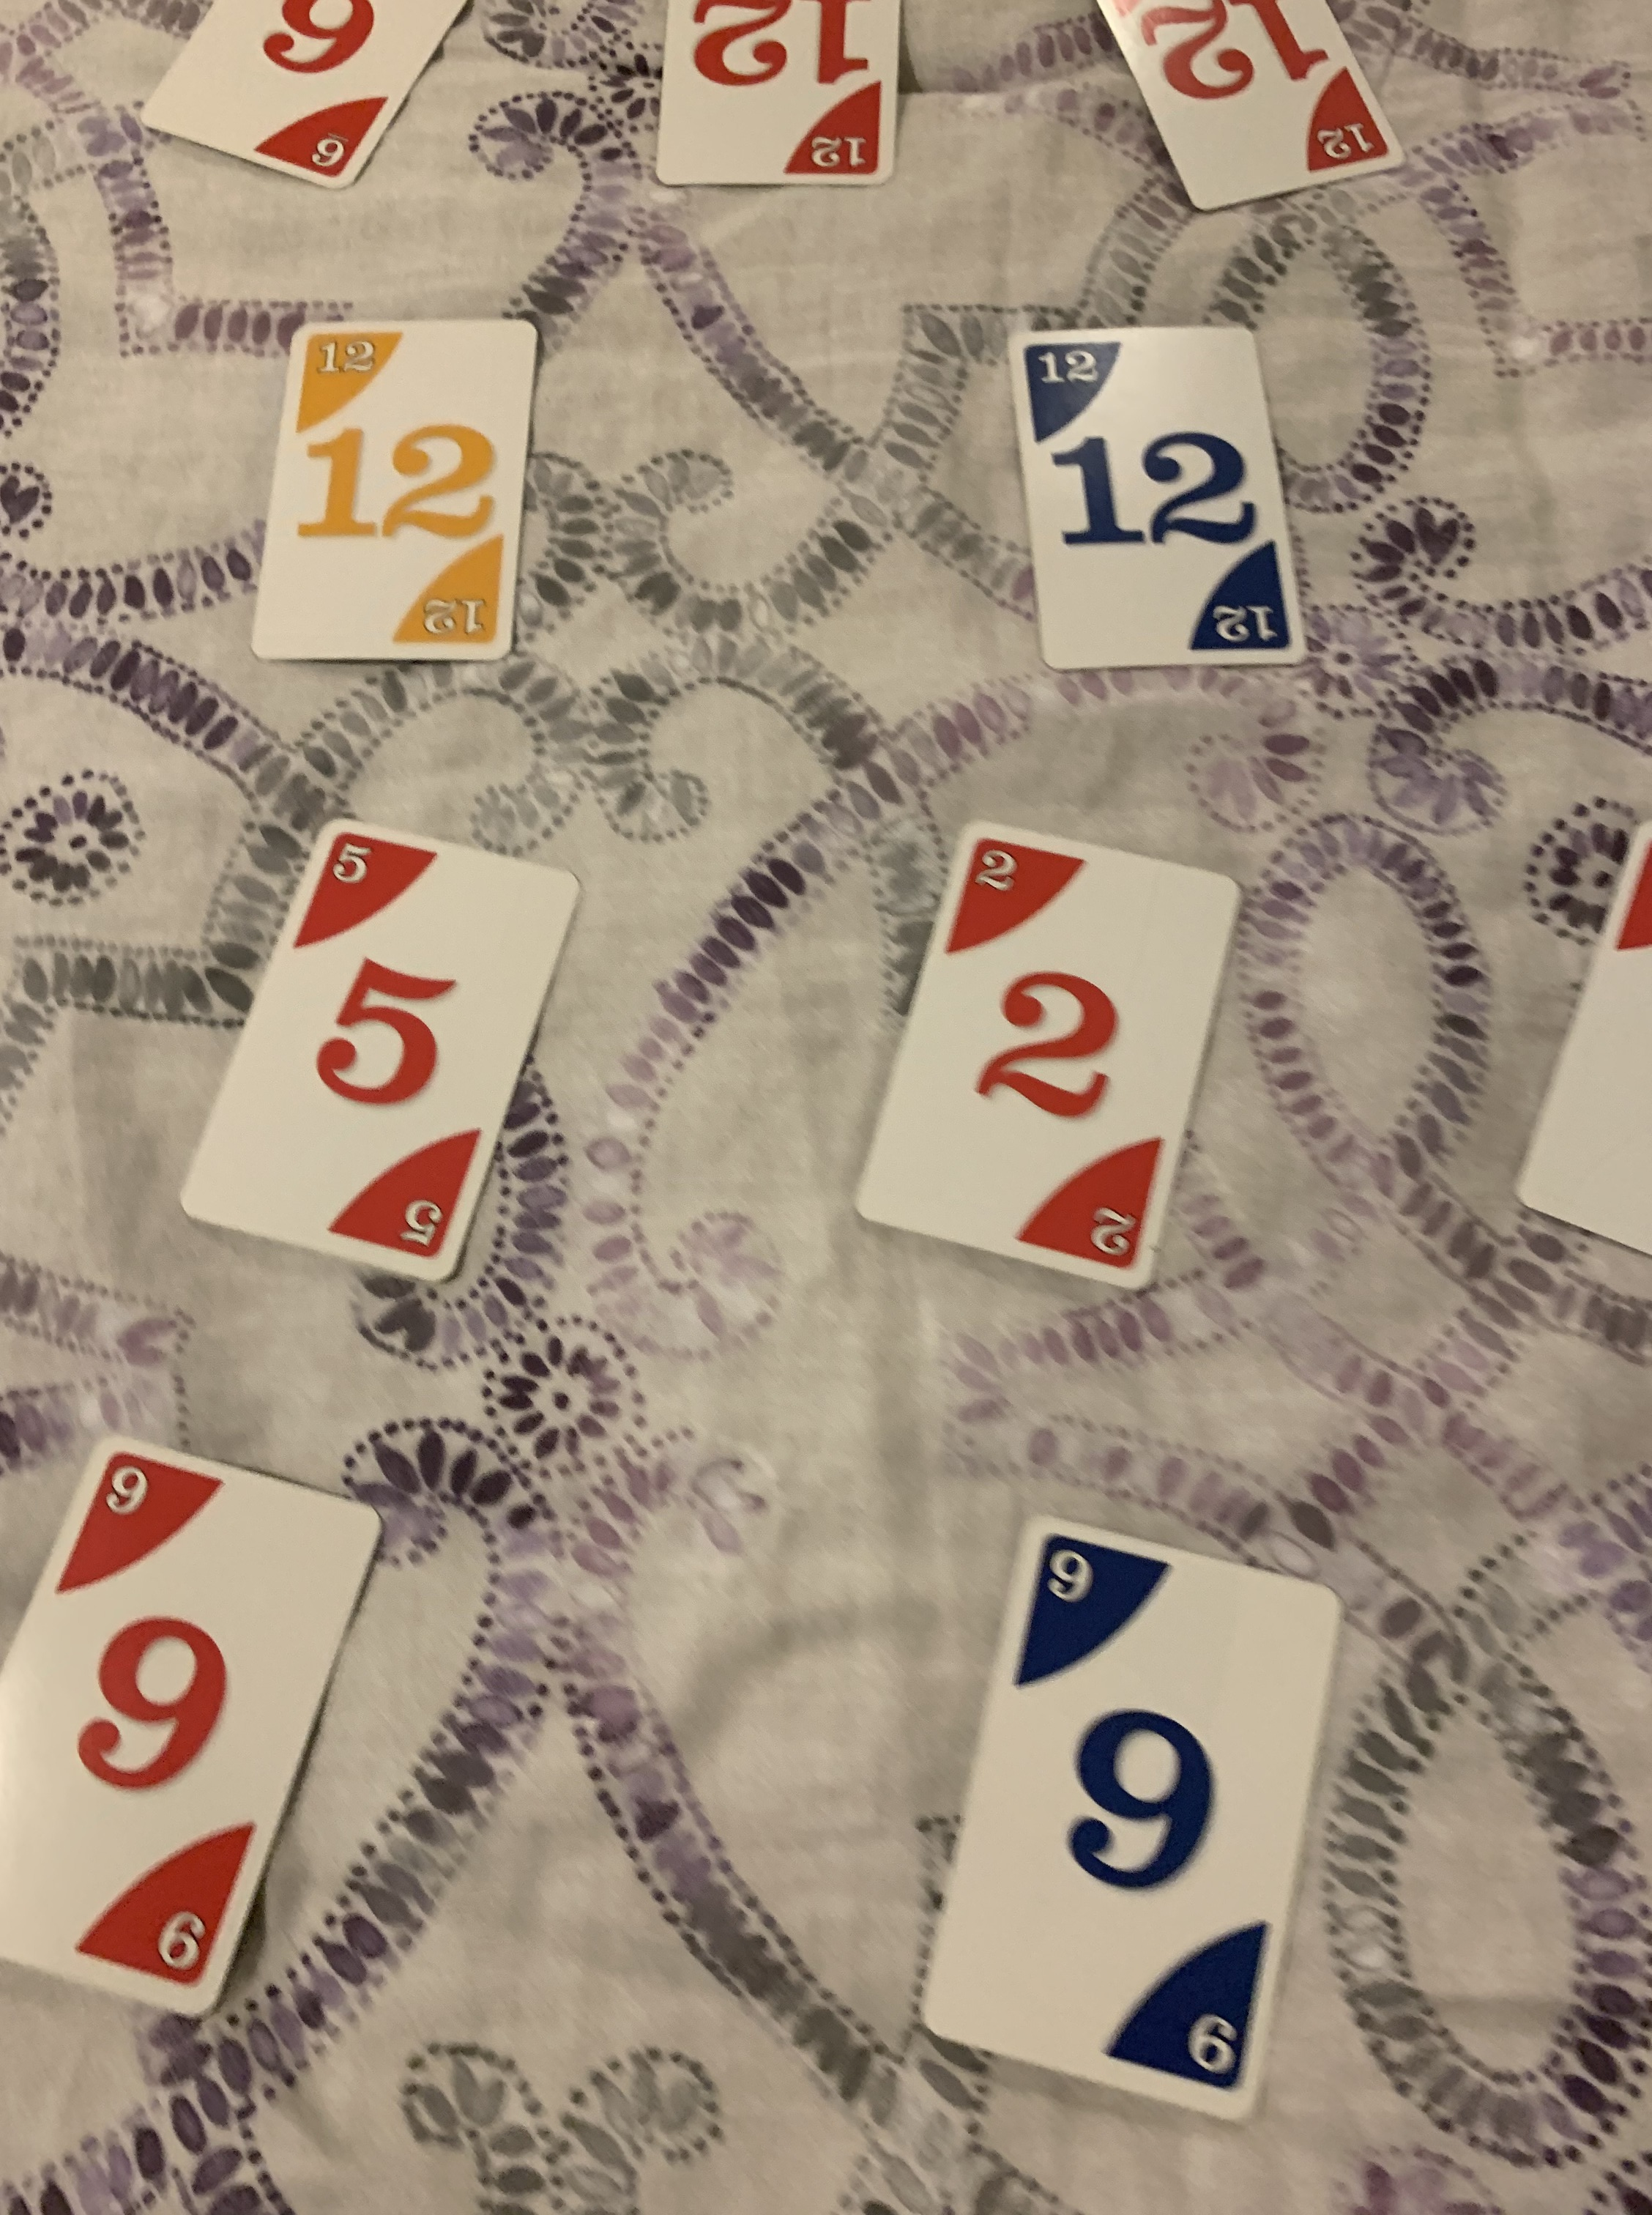five: (172, 814, 581, 1307)
nine: (918, 1515, 1347, 2132), (0, 1434, 389, 2015)
twelve: (1008, 314, 1308, 675), (248, 318, 540, 670)
